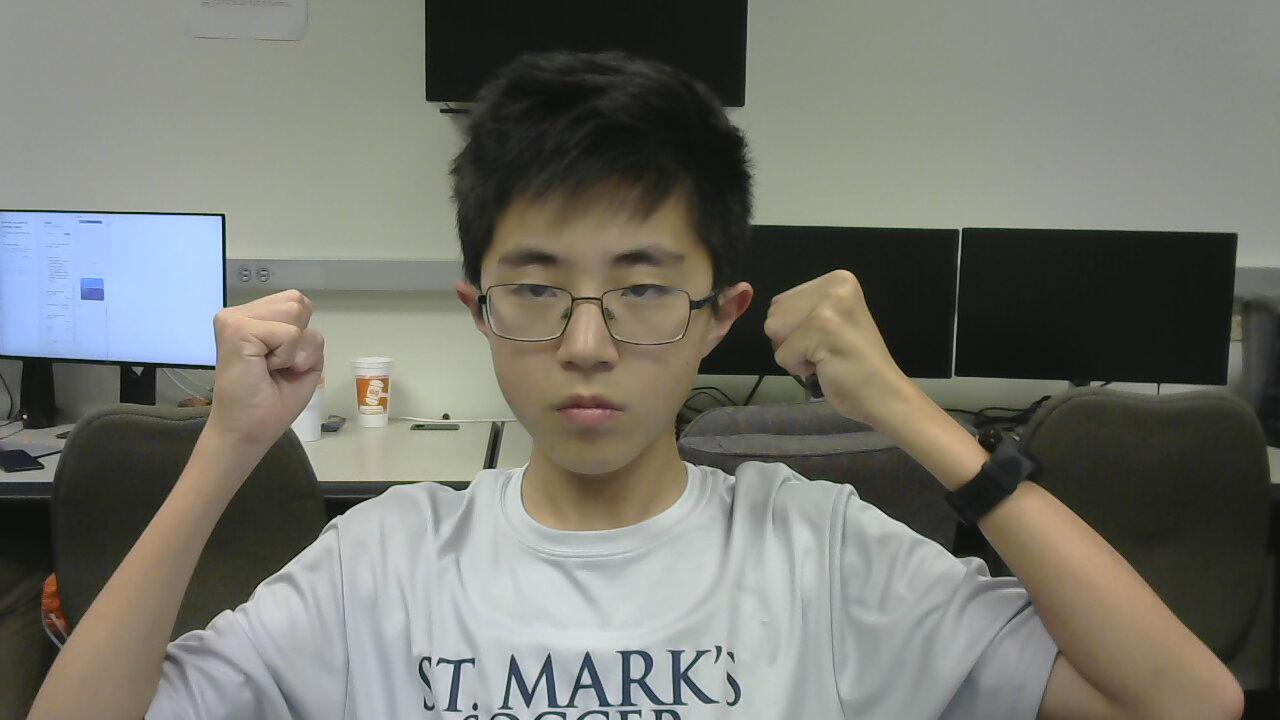fist: (203, 257, 352, 466), (771, 259, 904, 420)
